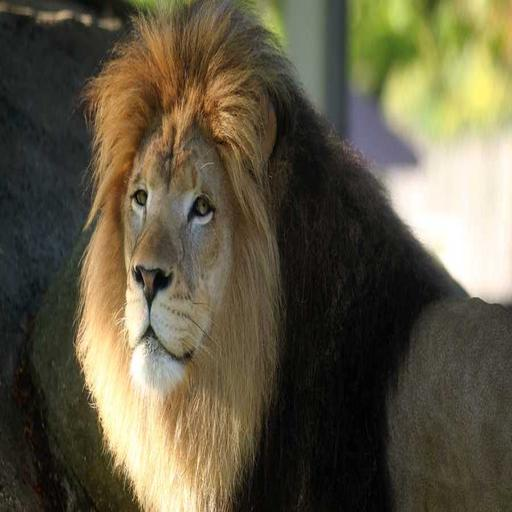Lion: (72, 2, 512, 512)
